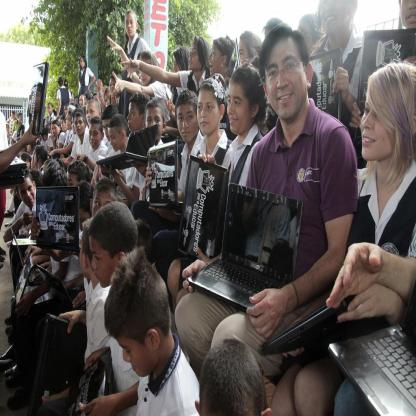board: (185, 172, 306, 334), (328, 280, 416, 416), (355, 29, 415, 145), (27, 312, 87, 416), (261, 296, 355, 355), (178, 155, 229, 261), (65, 348, 112, 415), (96, 125, 159, 170), (36, 186, 81, 248), (307, 48, 342, 121), (149, 139, 183, 209), (15, 254, 52, 309), (37, 265, 86, 305), (24, 63, 48, 135), (226, 39, 240, 90), (5, 160, 28, 172), (0, 177, 24, 186), (0, 170, 25, 178)
